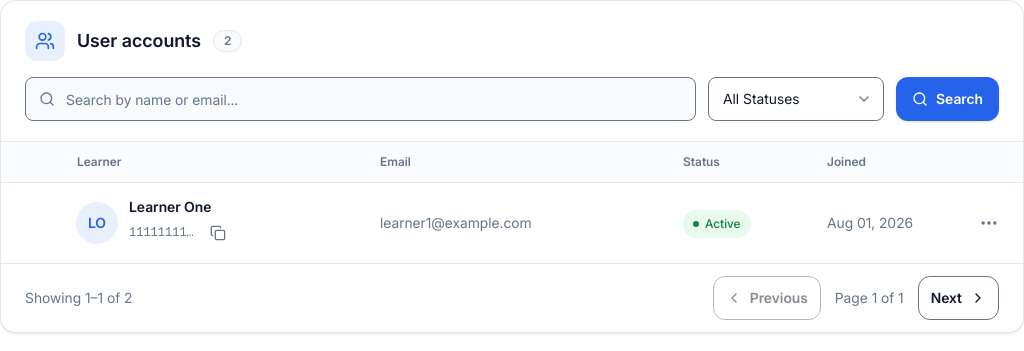
Test: Admin Shell & Operations › does not offer bulk selection to a read-only administrator
Click the button named "Actions for Learner One".
click(989, 223)  # box x1=967 y1=201 x2=1011 y2=245
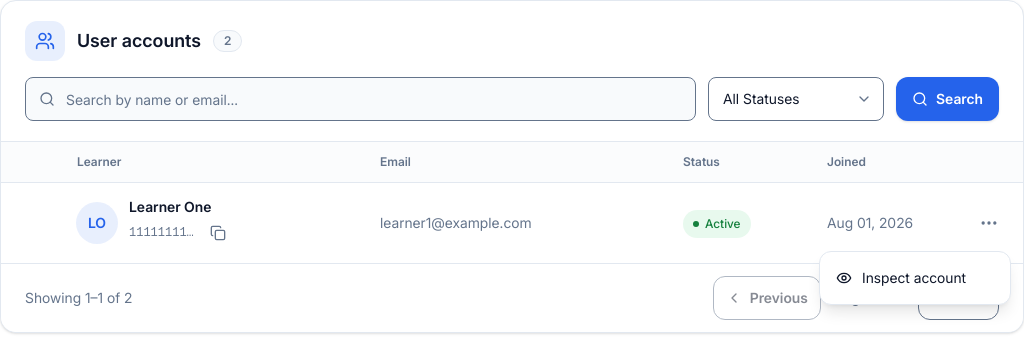
Expected: the menu item "Inspect account" is shown, x1=836 y1=269 x2=966 y2=286
